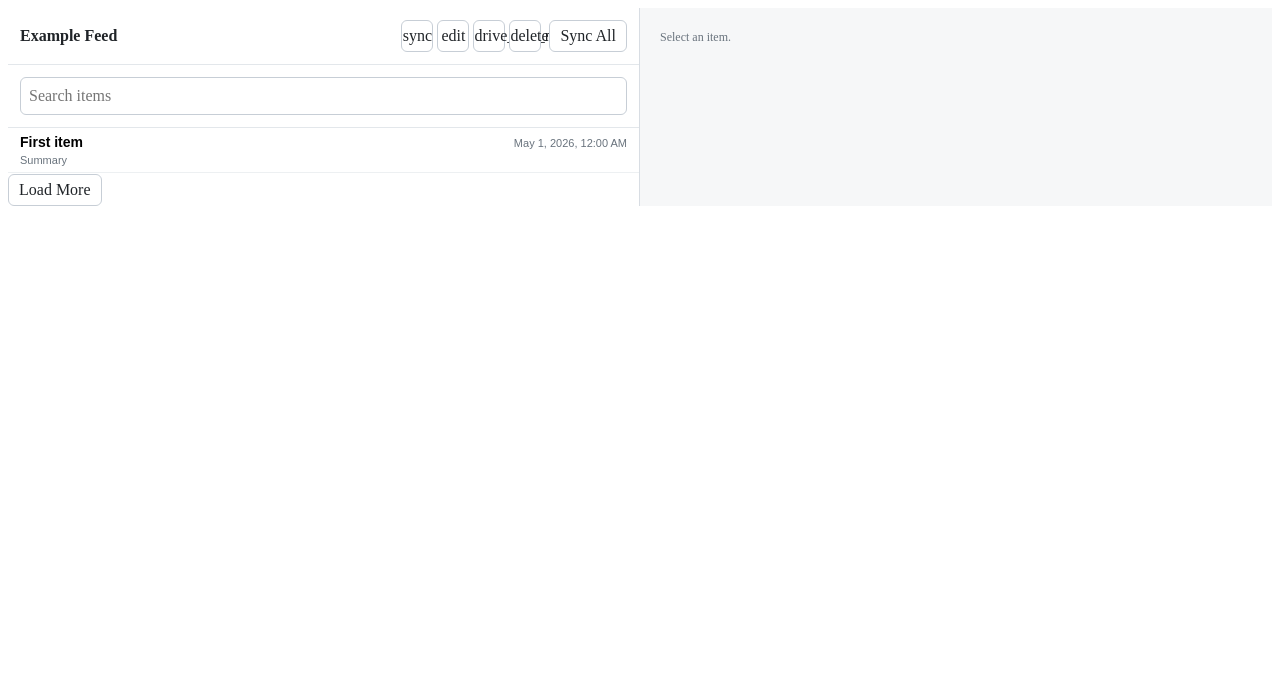
Test: RssApp › marks an item read on open and shows detail metadata
The image size is (1280, 698).
What coordinates should you click on to do the following:
click the text "First item"
I would click on:
 (52, 142)
Its box is [20,134,83,150].
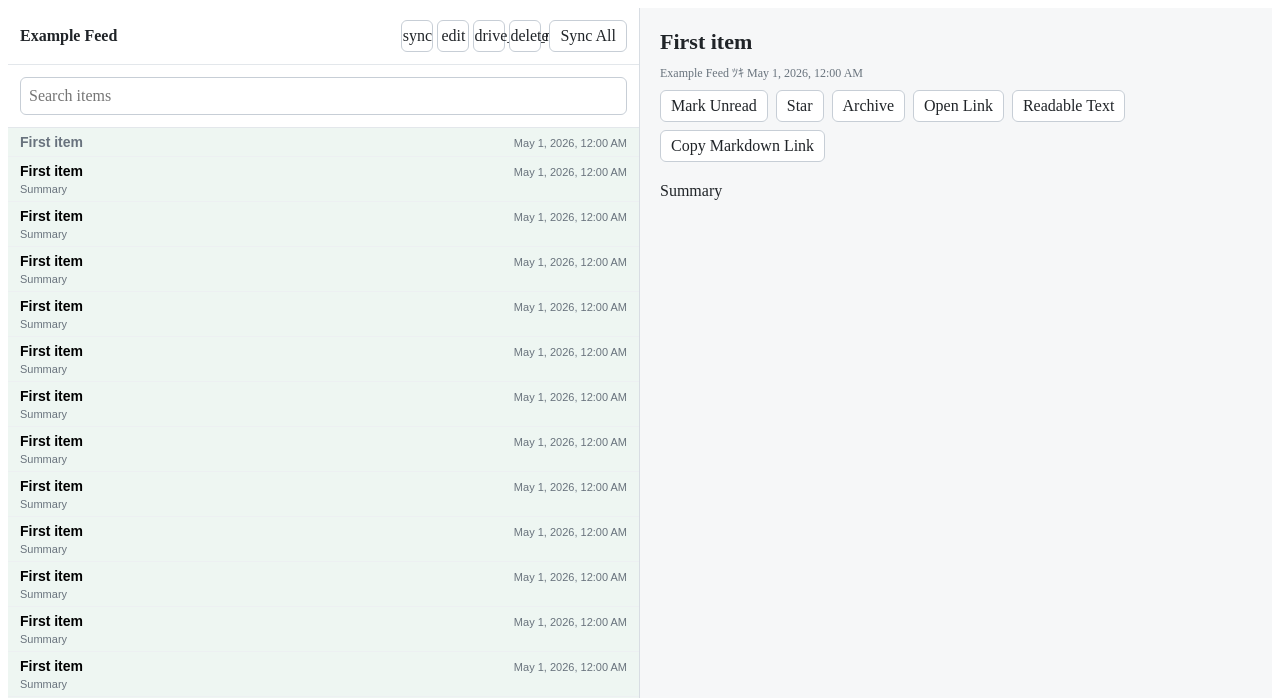
expect the heading "Example Feed" is shown: met, box [20,27,117,44]
expect the button "Open Link" is shown: met, box [913,90,1004,122]
